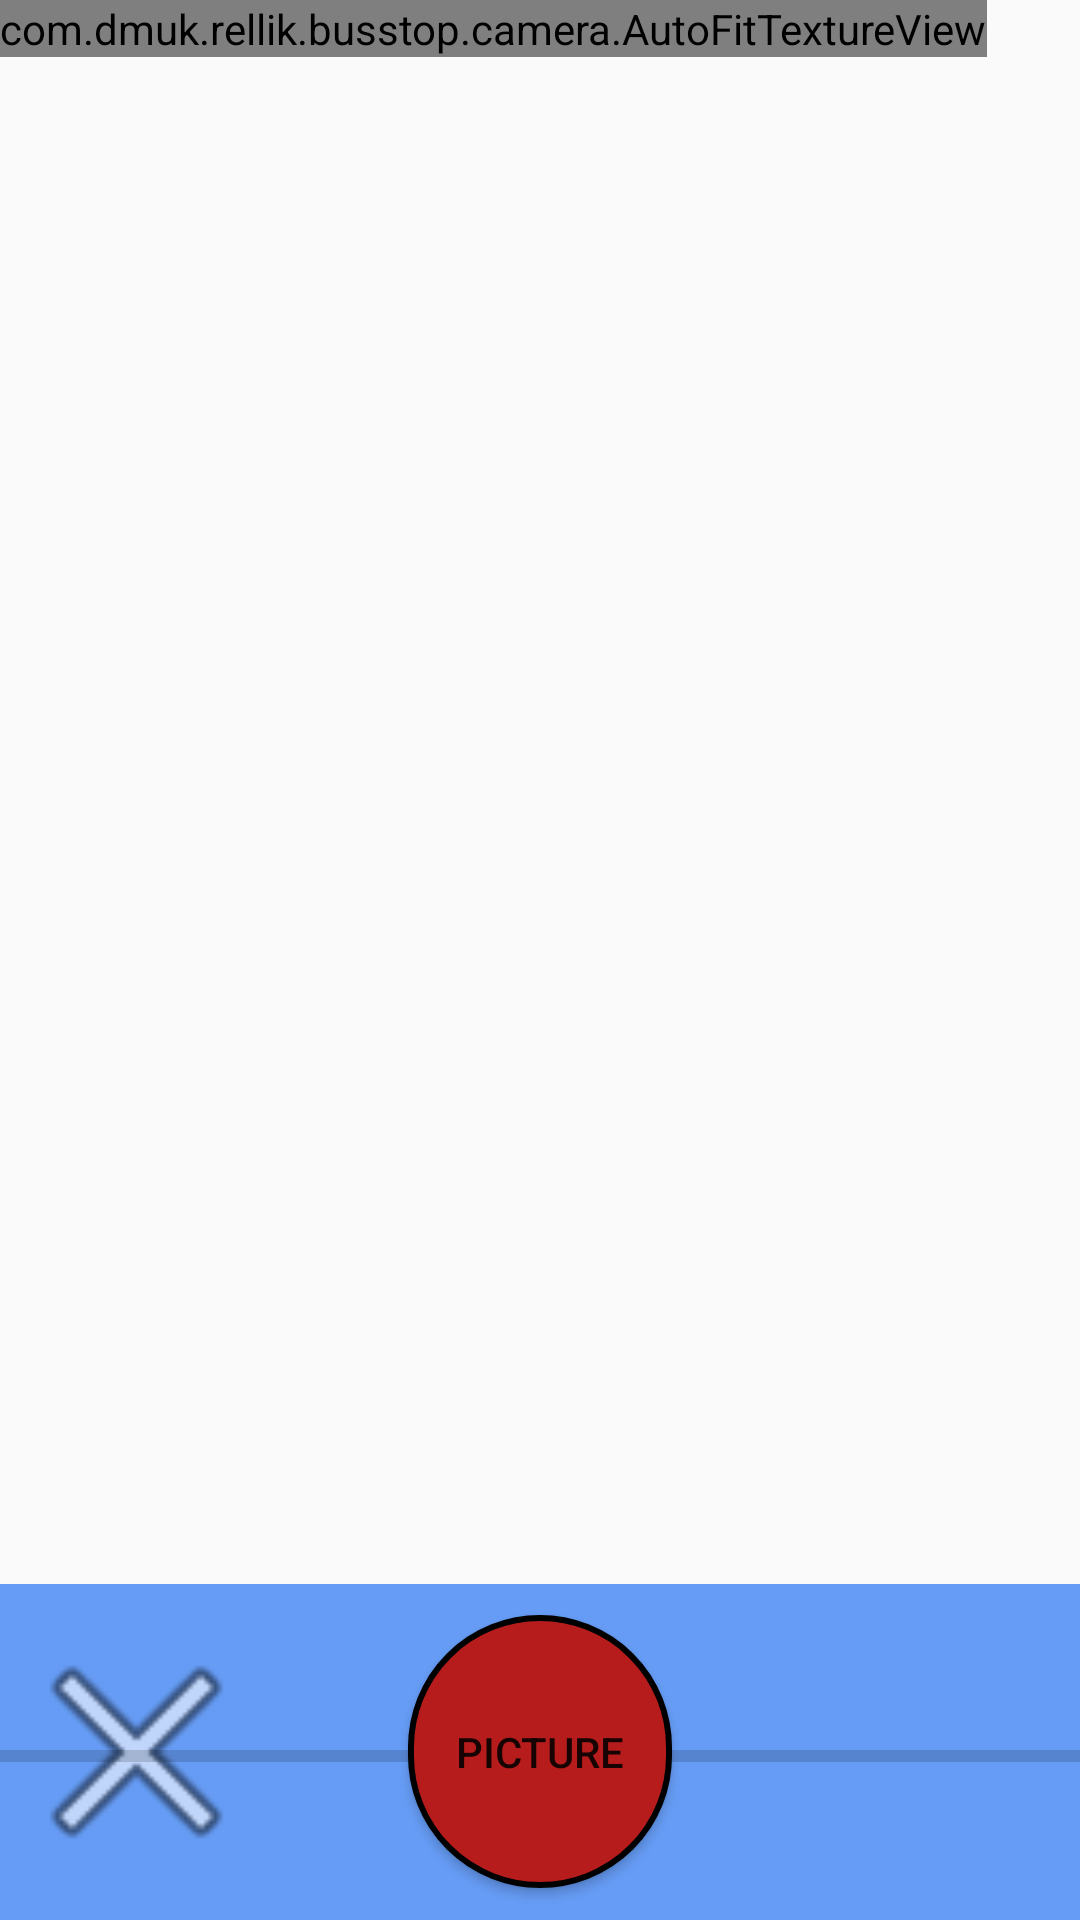

Icons on this 1080w x 1920h Android screen, each with its box as bbox=(x1, y1, x2, y2):
close capture: bbox=(0, 1666, 273, 1838)
